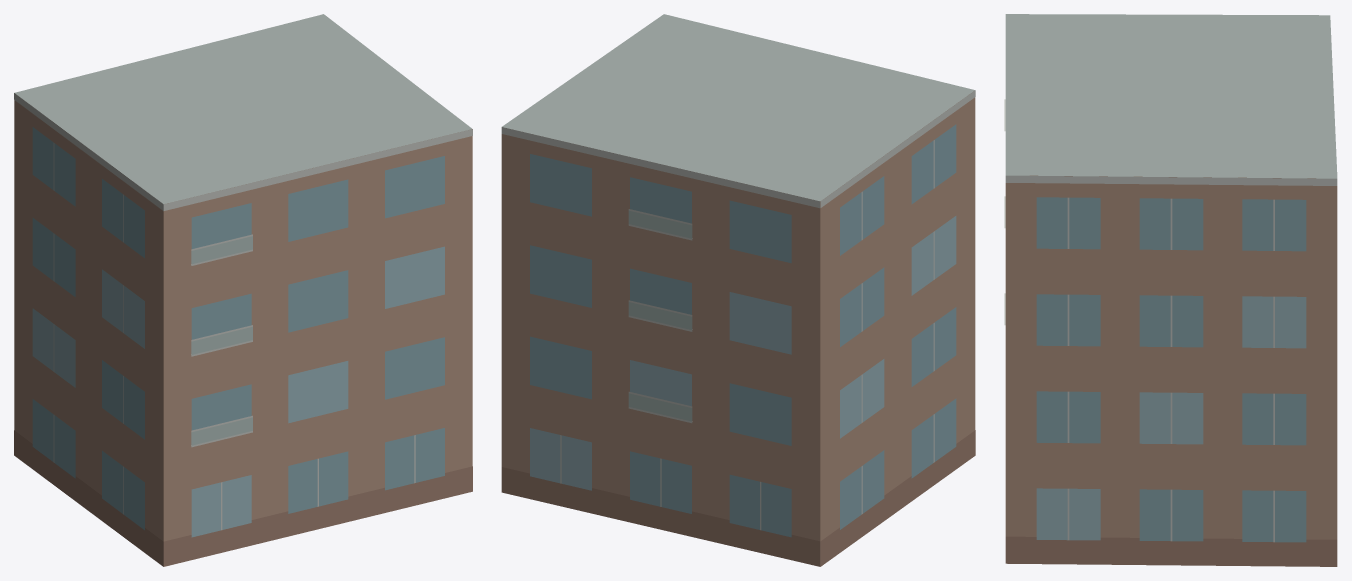
The model's file is survey-upis-32644605.glb.
3 renders of one model, left to right at view 1: azimuth 30°, elevation 25°; view 2: azimuth 150°, elevation 25°; view 3: azimuth 270°, elevation 25°, orthographic. The views are drawn at different scales.
Visible parts, largest first — view 1: survey-upis-32644605.tmp; view 2: survey-upis-32644605.tmp; view 3: survey-upis-32644605.tmp.
Boxes of the visible parts, <box> form: survey-upis-32644605.tmp: <box>14,14,472,566</box>; survey-upis-32644605.tmp: <box>501,14,975,566</box>; survey-upis-32644605.tmp: <box>1004,14,1337,566</box>.
Bounding box in the file's own units: 11.65 × 12.8 × 9.96.
